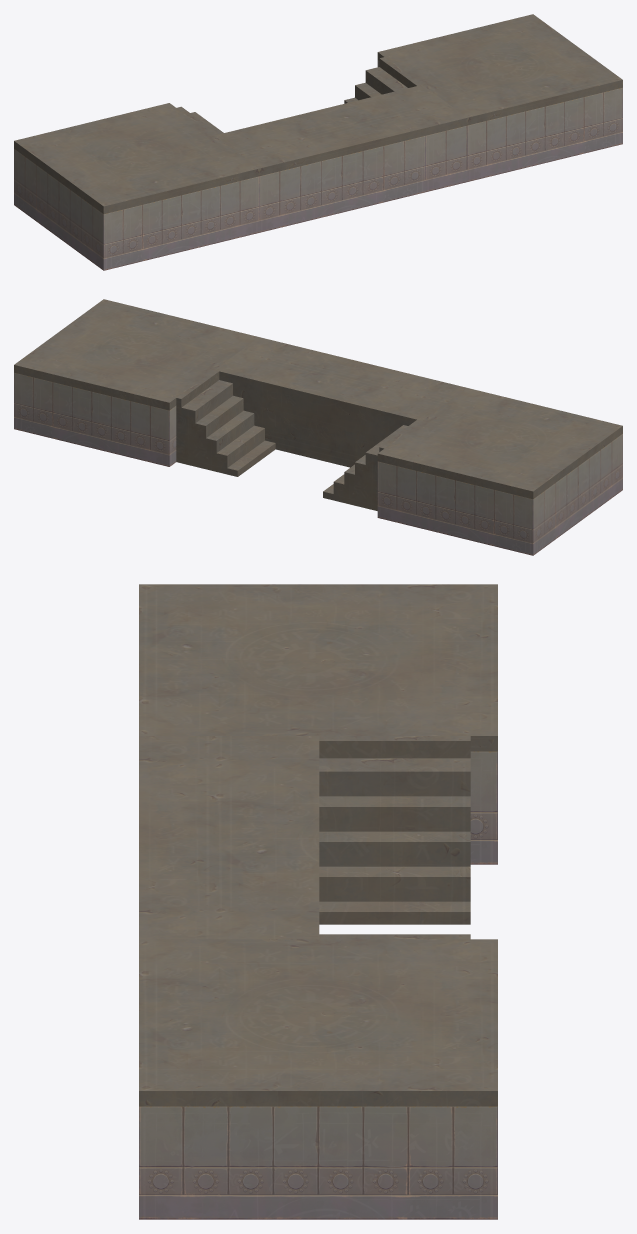
Rendered from Build_AscendantWall_RockStair.fbx.
3 views of the same model, one above another, from view 1: azimuth 30°, elevation 25°; view 2: azimuth 150°, elevation 25°; view 3: azimuth 270°, elevation 25° (orthographic). The views are drawn at different scales.
Visible parts, largest first — view 1: Build_AscendantWall_RockStair; view 2: Build_AscendantWall_RockStair; view 3: Build_AscendantWall_RockStair.
Boxes of the visible parts, x1,y1,x2,y2 form: Build_AscendantWall_RockStair: (14, 14, 622, 270); Build_AscendantWall_RockStair: (14, 299, 622, 555); Build_AscendantWall_RockStair: (139, 584, 497, 1219).
Size of what is drawn, in the model's own units: 1336 by 158 by 400.
